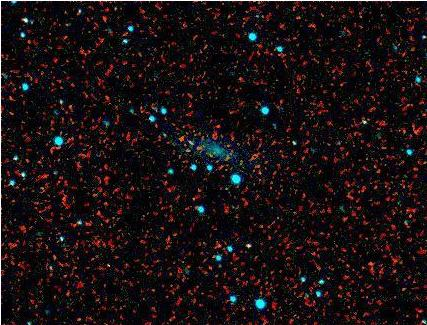star: (170, 135, 200, 165)
